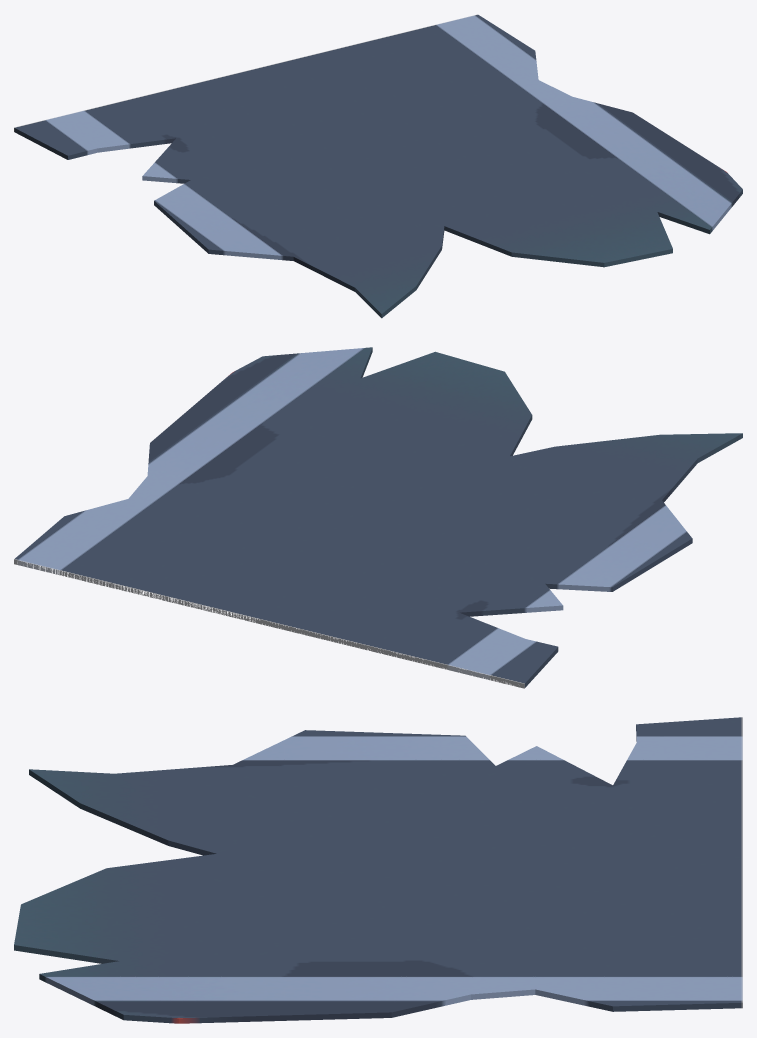
Rendered from Carpet 01 End 03.fbx.
3 views of the same model, one above another, from view 1: azimuth 30°, elevation 25°; view 2: azimuth 150°, elevation 25°; view 3: azimuth 270°, elevation 25° (orthographic). The views are drawn at different scales.
Parts seen in each view (by area): view 1: Carpet 01 End 03.002; view 2: Carpet 01 End 03.002; view 3: Carpet 01 End 03.002.
Boxes of the visible parts, x1,y1,x2,y2 form: Carpet 01 End 03.002: (14, 14, 742, 318); Carpet 01 End 03.002: (14, 347, 742, 688); Carpet 01 End 03.002: (14, 717, 742, 1023).
Bounding box in the file's own units: 176 × 1.5 × 180.
